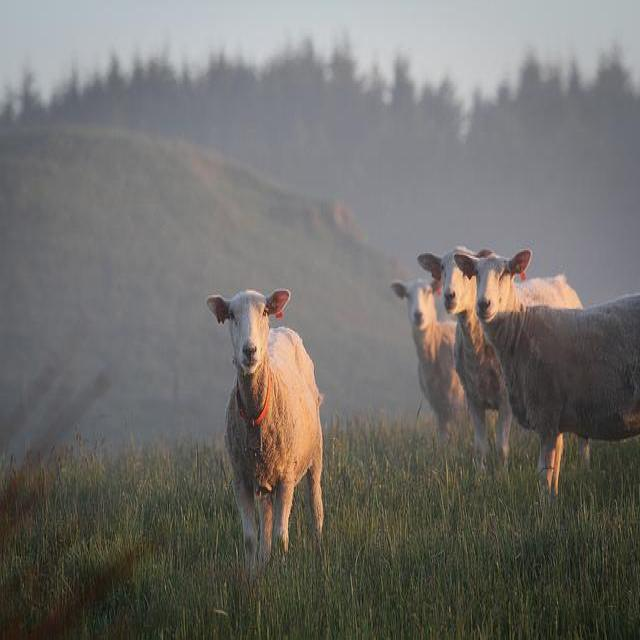Sheep: (455, 250, 639, 498), (415, 242, 582, 482), (205, 288, 325, 566), (388, 277, 473, 453)
